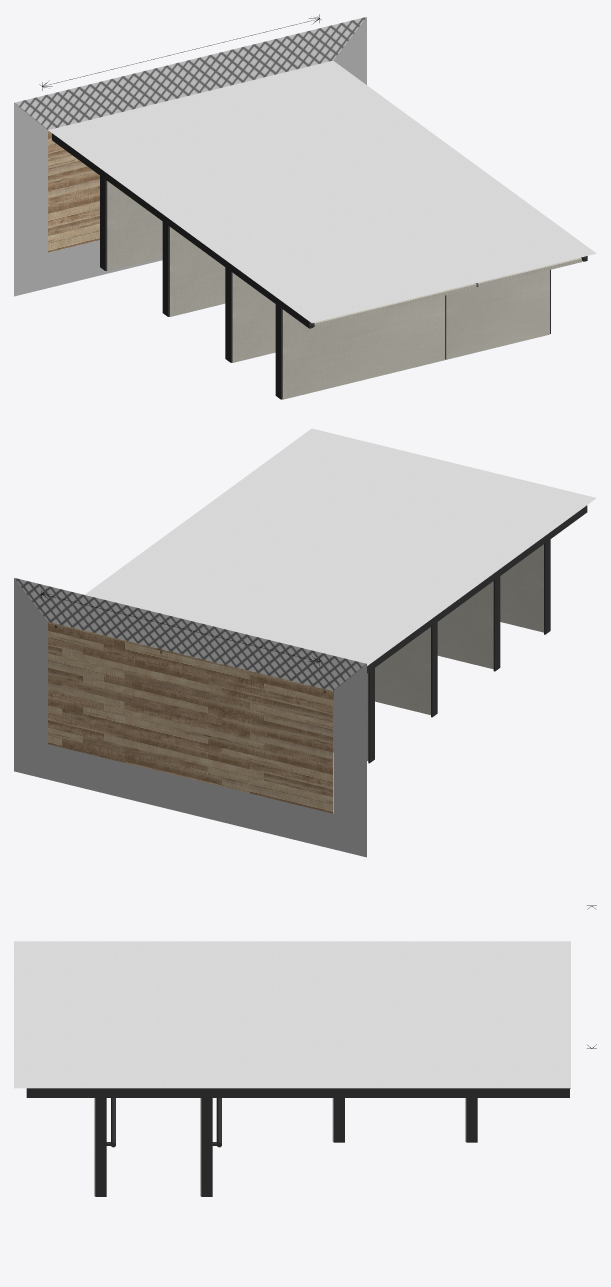
The model's file is B3 HC Pantry TI.OBJ.
3 views of the same model, one above another, from view 1: azimuth 30°, elevation 25°; view 2: azimuth 150°, elevation 25°; view 3: azimuth 270°, elevation 25° (orthographic). The views are drawn at different scales.
Parts seen in each view (by area): view 1: Object_65, Object_66, Object_59, Object_62, Object_72, Object_64, Object_56, Object_50, Object_53, Object_70, Object_2, Object_68 (+6 smaller); view 2: Object_65, Object_64, Object_66, Object_70, Object_68, Object_72, Object_53, Object_50, Object_59, Object_2, Object_54, Object_51 (+2 smaller); view 3: Object_65, Object_40, Object_49, Object_63, Object_52, Object_58.
Part boxes in pixels (bbox=[...]): Object_65: bbox=[48, 60, 596, 322]; Object_66: bbox=[14, 17, 366, 129]; Object_59: bbox=[282, 295, 444, 399]; Object_62: bbox=[445, 270, 549, 359]; Object_72: bbox=[14, 103, 47, 295]; Object_64: bbox=[48, 130, 99, 252]; Object_56: bbox=[106, 181, 162, 270]; Object_50: bbox=[169, 227, 225, 316]; Object_53: bbox=[232, 272, 275, 362]; Object_70: bbox=[14, 240, 162, 296]; Object_2: bbox=[52, 133, 313, 328]; Object_68: bbox=[333, 17, 366, 84]; Object_65: bbox=[84, 428, 596, 665]; Object_64: bbox=[48, 621, 332, 813]; Object_66: bbox=[14, 578, 366, 690]; Object_70: bbox=[14, 744, 366, 857]; Object_68: bbox=[14, 578, 47, 770]; Object_72: bbox=[333, 664, 366, 856]; Object_53: bbox=[437, 581, 493, 669]; Object_50: bbox=[375, 627, 430, 714]; Object_59: bbox=[500, 544, 543, 632]; Object_2: bbox=[333, 505, 587, 697]; Object_54: bbox=[493, 576, 500, 671]; Object_51: bbox=[431, 622, 437, 717]; Object_65: bbox=[14, 941, 570, 1088]; Object_40: bbox=[26, 1088, 569, 1097]; Object_49: bbox=[201, 1098, 212, 1196]; Object_63: bbox=[95, 1098, 106, 1196]; Object_52: bbox=[333, 1098, 344, 1142]; Object_58: bbox=[466, 1098, 477, 1142].
Bounding box in the file's own units: 2080 × 1115 × 2817.
Materials: 11 (11 with a texture image).
